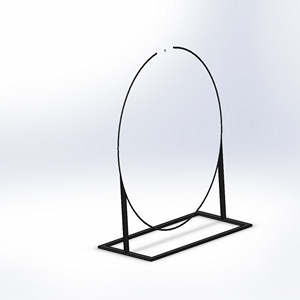circle: (96, 42, 253, 262)
